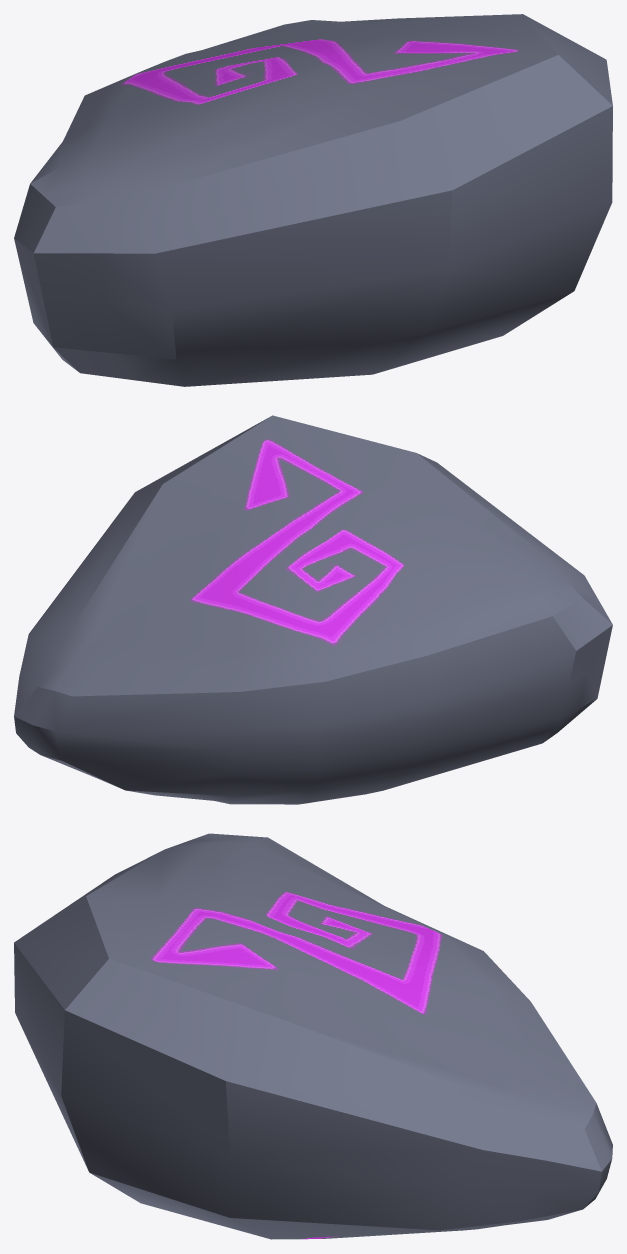
File: RuneRock_RTrap.fbx
3 renders of one model, top to bottom at view 1: azimuth 30°, elevation 25°; view 2: azimuth 150°, elevation 25°; view 3: azimuth 270°, elevation 25°, orthographic. The views are drawn at different scales.
Parts seen in each view (by area): view 1: RuneRock; view 2: RuneRock; view 3: RuneRock.
Boxes of the visible parts, x1=… form: RuneRock: x1=14, y1=14, x2=612, y2=386; RuneRock: x1=14, y1=415, x2=612, y2=804; RuneRock: x1=14, y1=833, x2=612, y2=1239.
Size of the model in its own units: 241 by 133 by 230.
